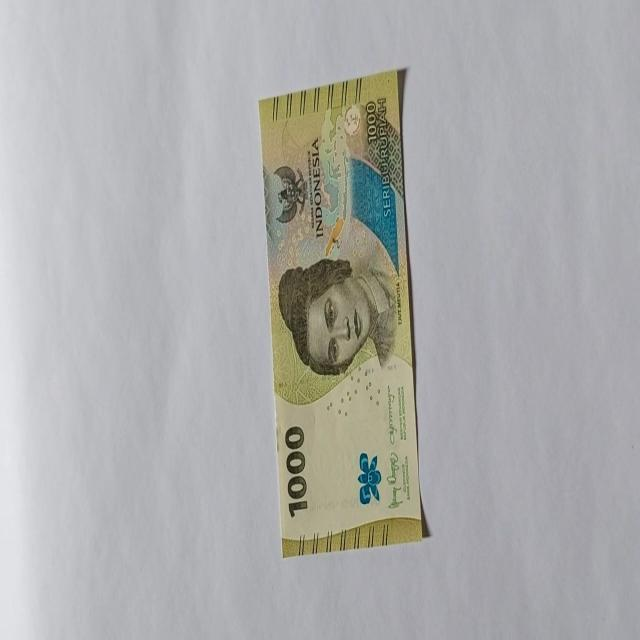seribu rupiah kertas: (258, 69, 424, 556)
